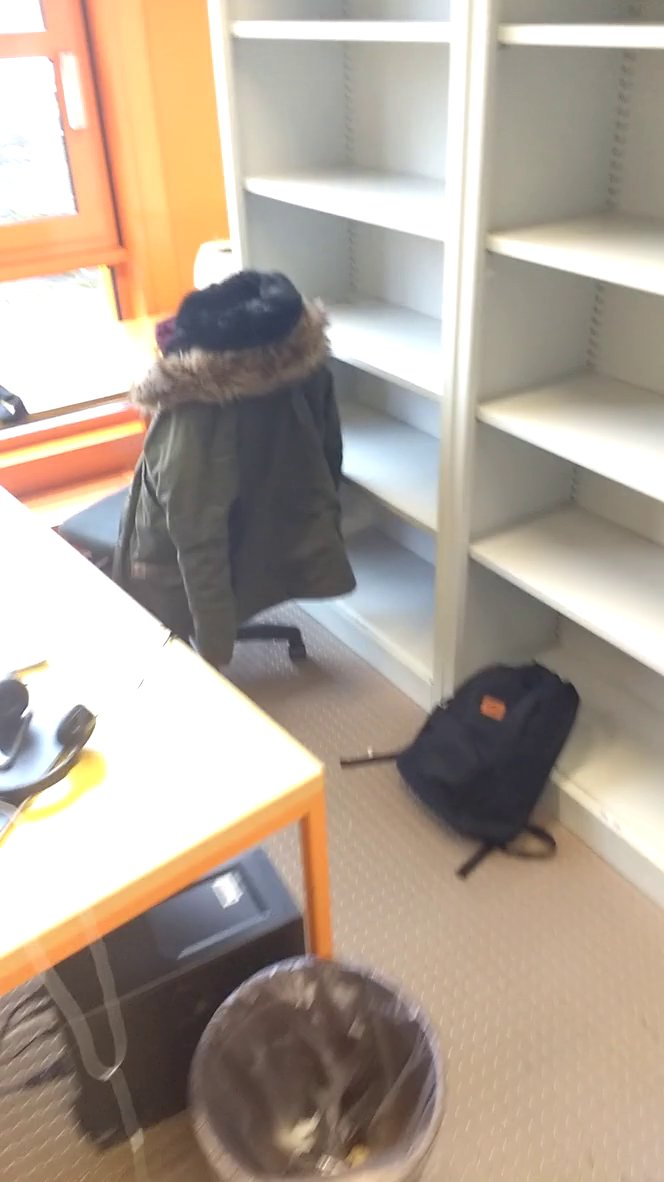bag: (357, 646, 592, 872)
bin: (182, 936, 478, 1182)
